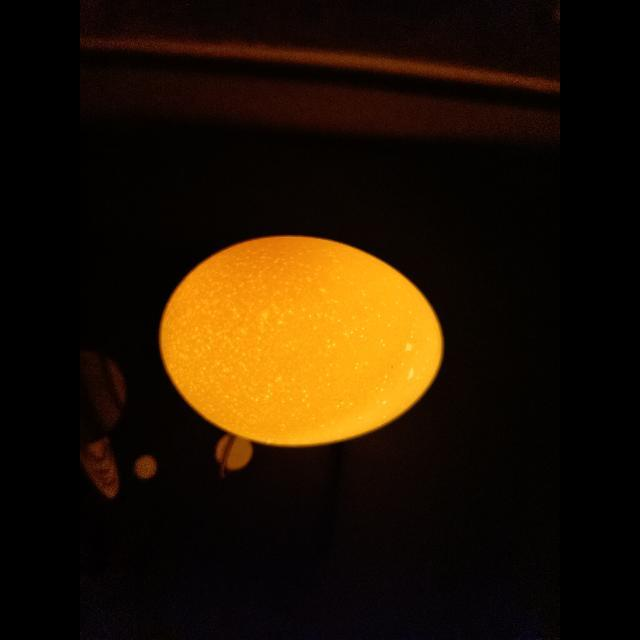AA - Premium: (160, 236, 444, 446)
